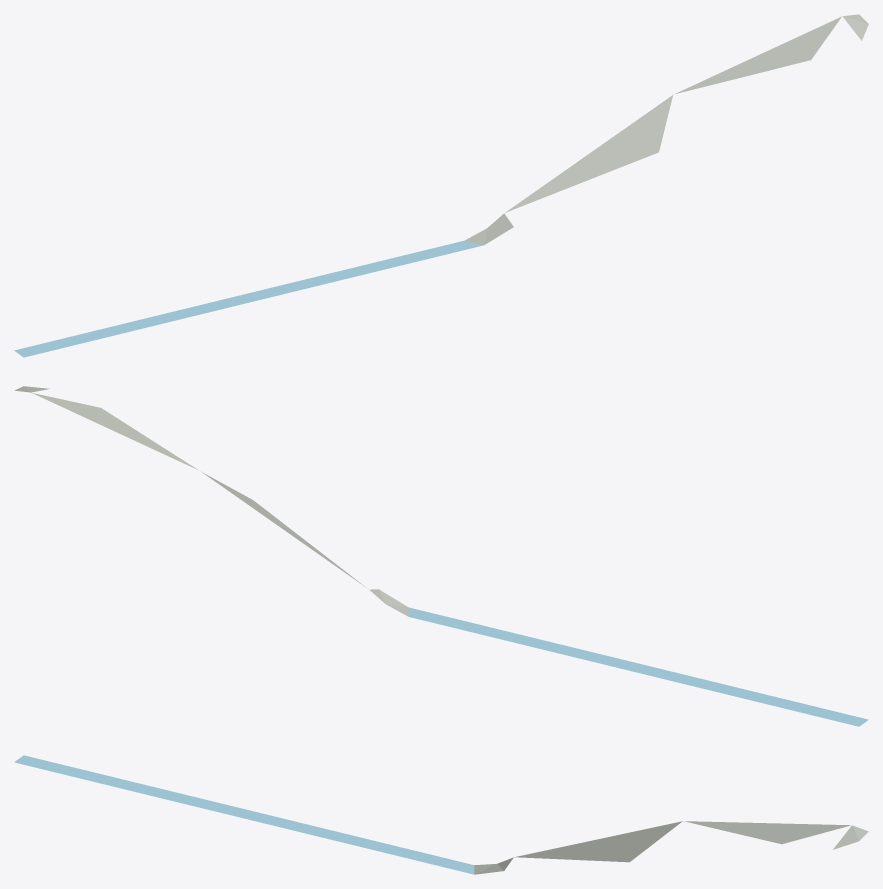
File: terrain-context-C-x-3-z-4.glb
The picture shows the model from 3 angles, top to bottom: view 1: azimuth 30°, elevation 25°; view 2: azimuth 150°, elevation 25°; view 3: azimuth 330°, elevation 25°; orthographic projection.
Parts seen in each view (by area): view 1: C-x-3-z-4; view 2: C-x-3-z-4; view 3: C-x-3-z-4.
Part boxes in pixels (bbox=[...]): C-x-3-z-4: bbox=[14, 14, 868, 357]; C-x-3-z-4: bbox=[14, 386, 868, 726]; C-x-3-z-4: bbox=[14, 755, 868, 874].
Size of the model in its own units: 25 by 3.73 by 1.
